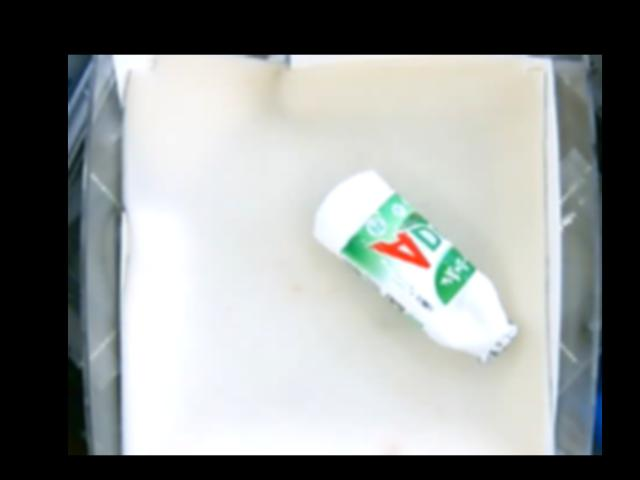Bottle: (314, 173, 520, 365)
